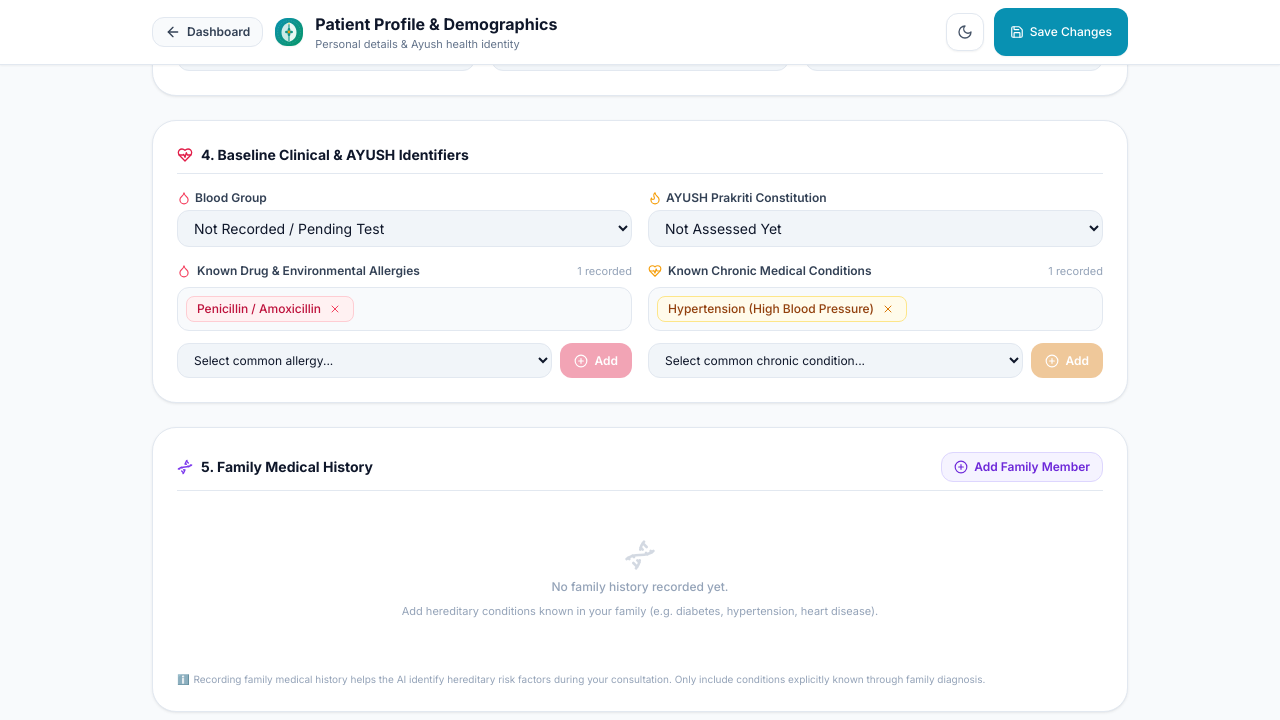
PatientProfile Component - Allergy & Condition Support › shows textbox when "Others (specify)" is selected for chronic conditions
(page scrolled)
Select "Others (specify)..." in the dropdown showing "Select common chronic condition..." below "Hypertension (High Blood Pressure)" at (836, 360), box [648,343,1024,378]
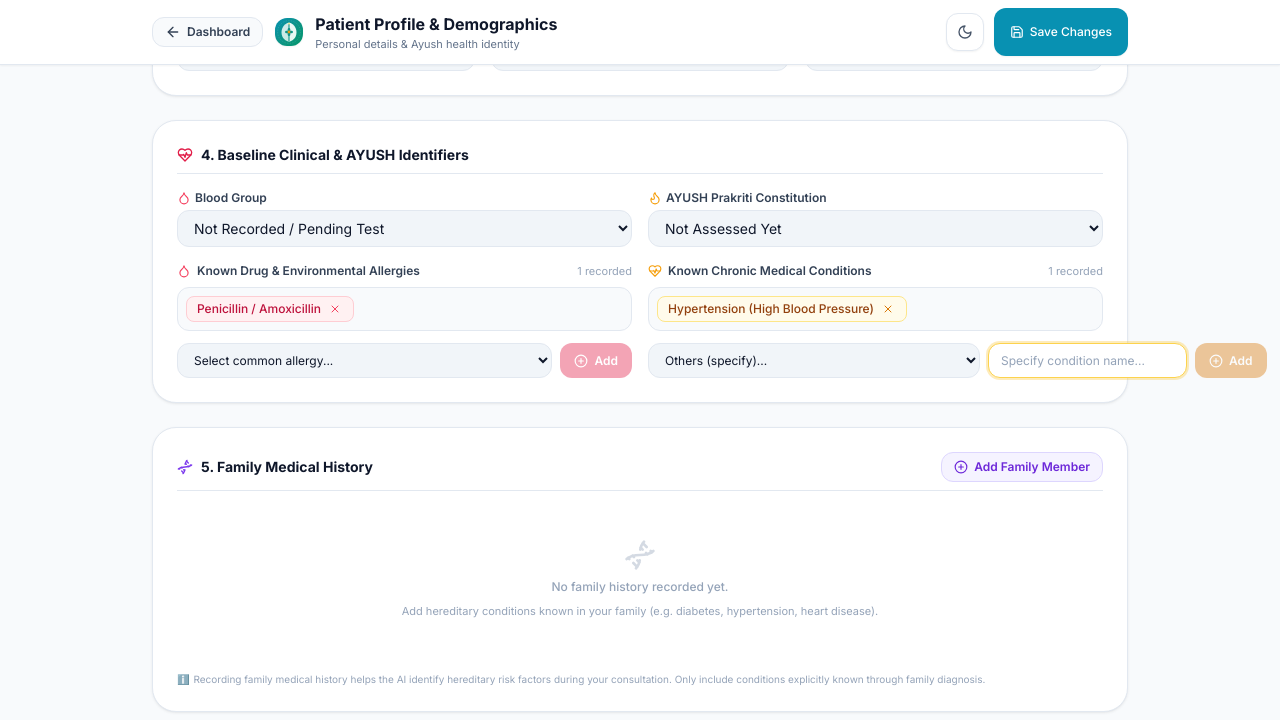
Expected: the field with placeholder "Specify condition name..." is shown
Type "Celiac Disease" into the field with placeholder "Specify condition name..." at (1088, 360), box [988,343,1187,378]
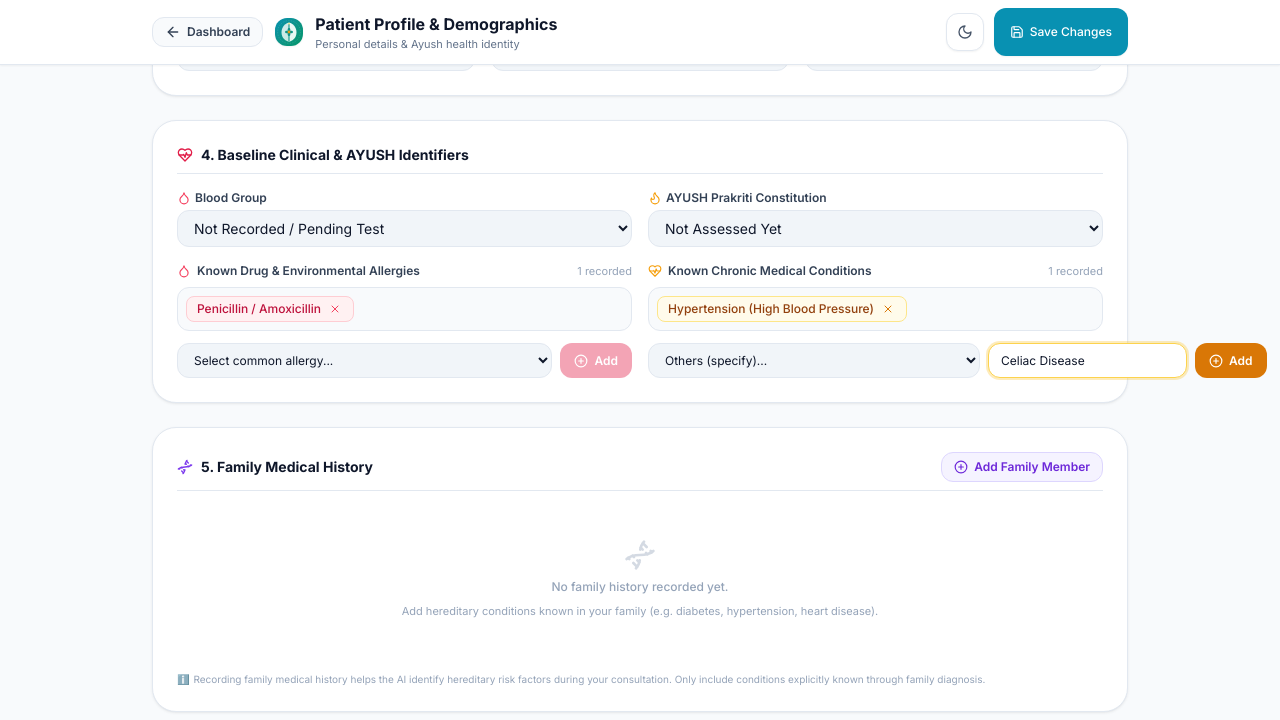
# Second Add button is for Chronic Conditions
Click the 2nd button "Add" at (1231, 360), box [1195,343,1266,378]
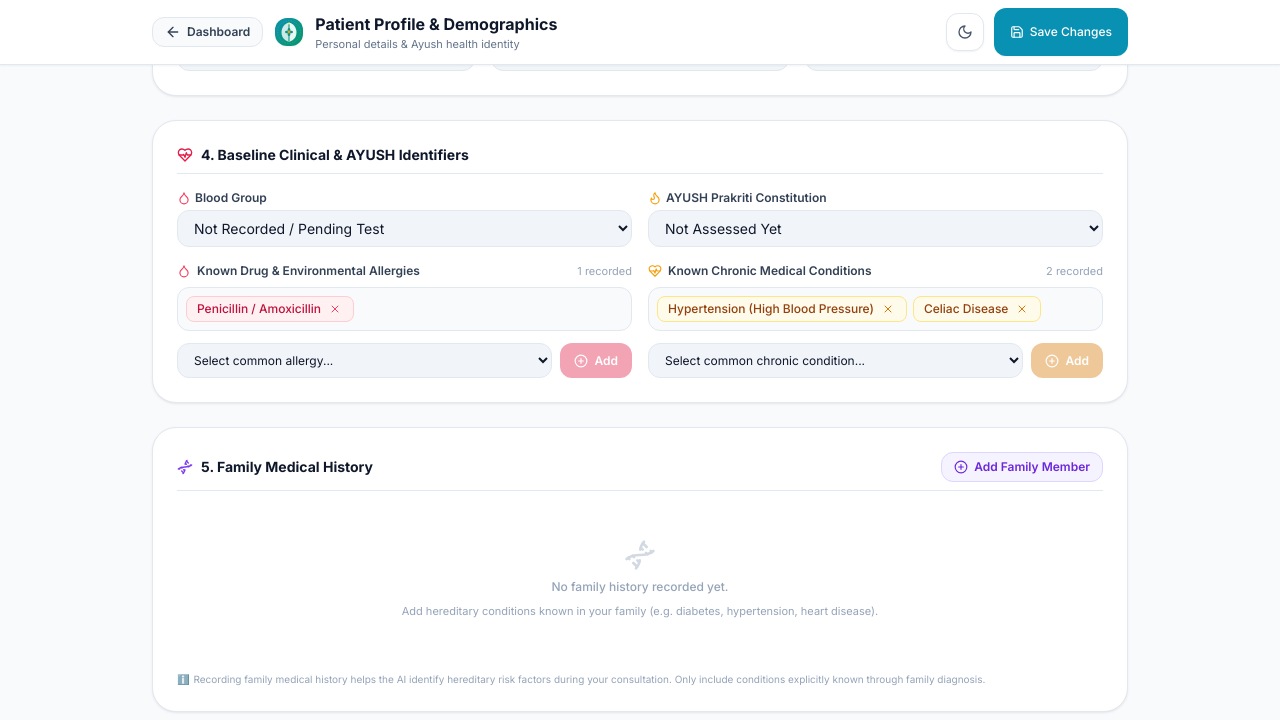
Expected: the text "Celiac Disease" is shown, [924,301,1008,317]
